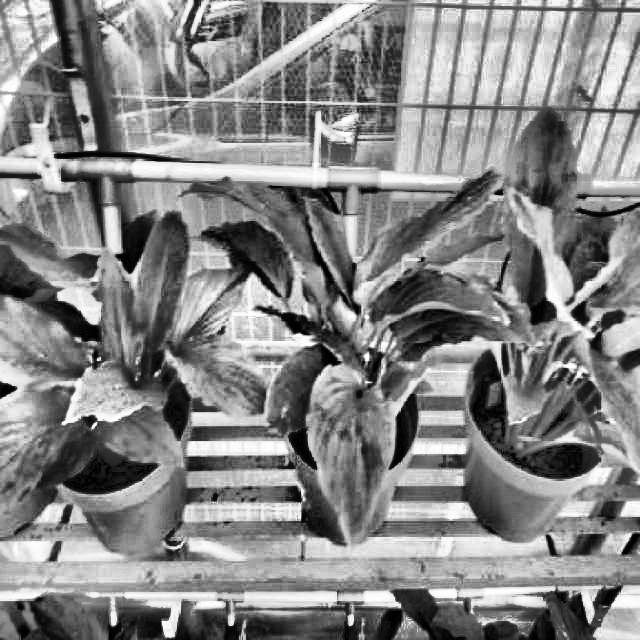plants: (179, 166, 512, 549), (0, 207, 269, 526), (418, 106, 640, 482)
